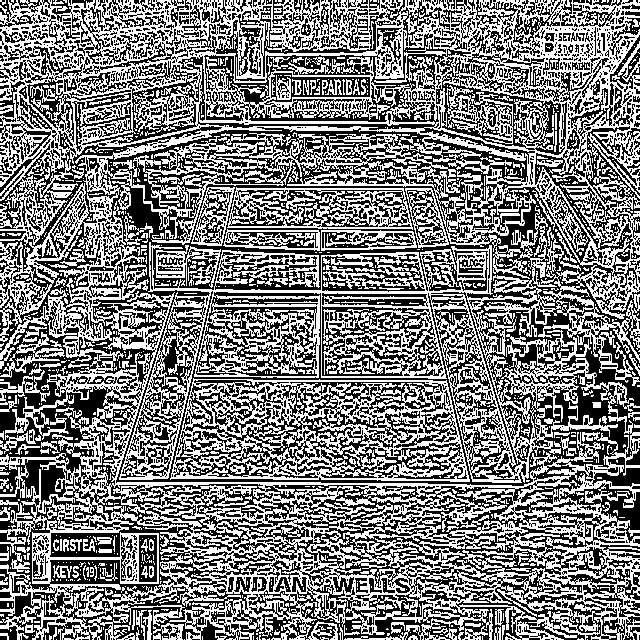left side: (403, 187, 522, 484), (116, 185, 235, 480)
player: (496, 394, 536, 484), (280, 130, 304, 188)
